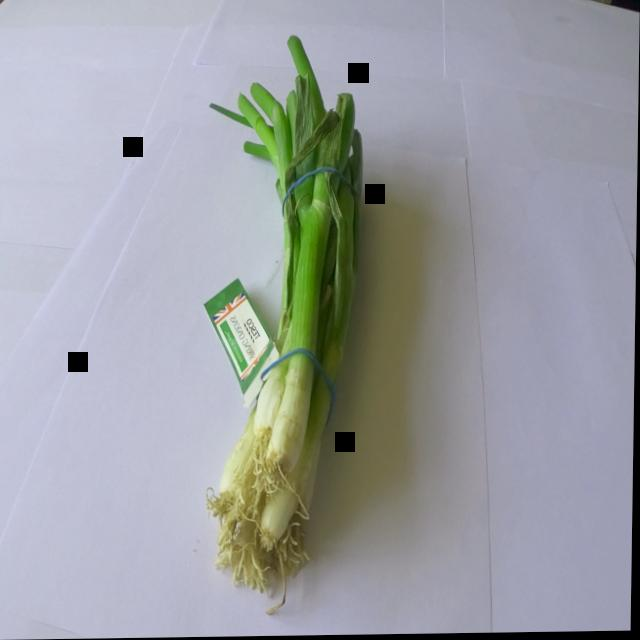Springonion: (177, 9, 379, 637)
